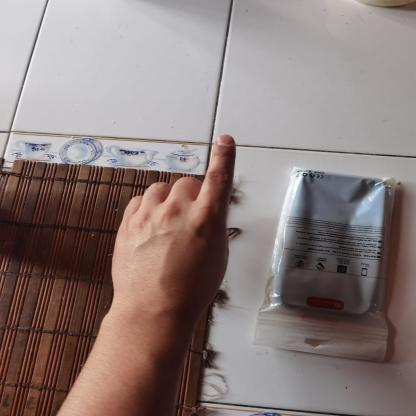T: (104, 122, 242, 324)
